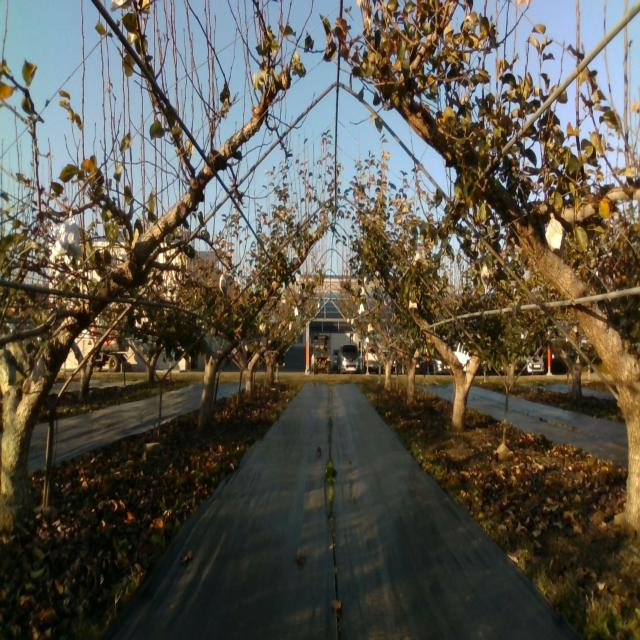pearbags: (52, 210, 81, 258), (545, 212, 564, 256), (480, 264, 492, 292), (415, 245, 428, 266), (218, 272, 228, 296)
